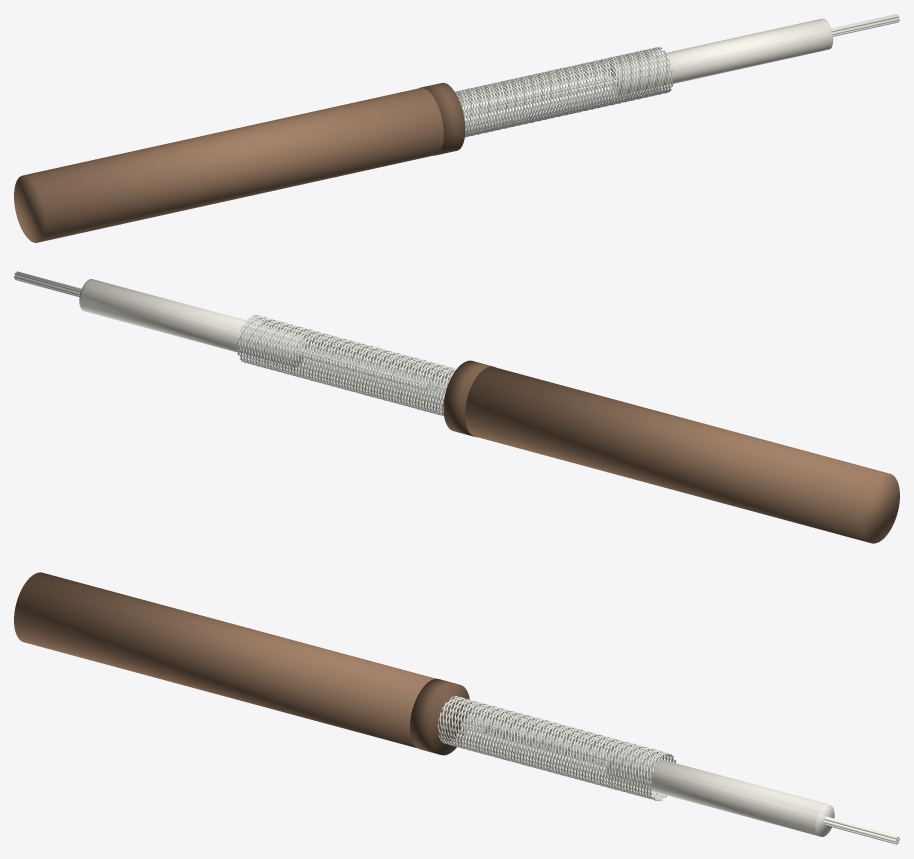
3 views of the same model, one above another, from view 1: azimuth 30°, elevation 25°; view 2: azimuth 150°, elevation 25°; view 3: azimuth 330°, elevation 25° (orthographic). The views are drawn at different scales.
Visible parts, largest first — view 1: matte black pvc jacket body, gas injected foam dielectric, smooth dielectric skin, jacket cut lip, braid left hand carrier 11, braid left hand carrier 05, braid left hand carrier 08, braid left hand carrier 02, braid left hand carrier 09, braid left hand carrier 12, braid right hand carrier 03, braid left hand carrier 06 (+17 smaller); view 2: matte black pvc jacket body, gas injected foam dielectric, smooth dielectric skin, jacket cut lip, braid right hand carrier 11, braid left hand carrier 03, braid left hand carrier 06, braid right hand carrier 01, braid right hand carrier 12, braid left hand carrier 08, braid right hand carrier 10, braid right hand carrier 08 (+14 smaller); view 3: matte black pvc jacket body, gas injected foam dielectric, smooth dielectric skin, jacket cut lip, braid left hand carrier 09, braid right hand carrier 03, braid left hand carrier 03, braid left hand carrier 06, braid right hand carrier 02, braid left hand carrier 12, braid left hand carrier 11, braid right hand carrier 09 (+15 smaller).
Boxes of the visible parts, x1,y1,x2,y2 form: matte black pvc jacket body: (14,88,443,242); gas injected foam dielectric: (608,18,833,95); smooth dielectric skin: (606,19,831,95); jacket cut lip: (419,82,465,155); braid left hand carrier 11: (468,47,661,136); braid left hand carrier 05: (458,51,671,132); braid left hand carrier 08: (465,49,652,136); braid left hand carrier 02: (465,53,670,134); braid left hand carrier 09: (465,48,655,137); braid left hand carrier 12: (465,46,664,135); braid right hand carrier 03: (455,52,661,133); braid left hand carrier 06: (461,50,659,131); matte black pvc jacket body: (465,366,899,543); gas injected foam dielectric: (79,279,306,367); smooth dielectric skin: (81,279,308,367); jacket cut lip: (443,360,495,437); braid right hand carrier 11: (255,317,444,415); braid left hand carrier 03: (255,322,453,413); braid left hand carrier 06: (246,320,455,411); braid right hand carrier 01: (251,319,450,409); braid right hand carrier 12: (258,318,447,413); braid left hand carrier 08: (240,319,450,410); braid right hand carrier 10: (252,316,442,415); braid right hand carrier 08: (247,314,438,414); matte black pvc jacket body: (14,572,435,747); gas injected foam dielectric: (607,748,834,836); smooth dielectric skin: (605,748,827,836); jacket cut lip: (410,678,469,755); braid left hand carrier 09: (451,703,672,794); braid right hand carrier 03: (457,698,662,798); braid left hand carrier 03: (438,698,655,798); braid left hand carrier 06: (442,701,664,801); braid right hand carrier 02: (455,700,666,799); braid left hand carrier 12: (454,695,668,796); braid left hand carrier 11: (457,702,673,795); braid right hand carrier 09: (439,703,663,793).
Bounding box in the file's own units: 6.51 × 0.4621 × 0.5963.
